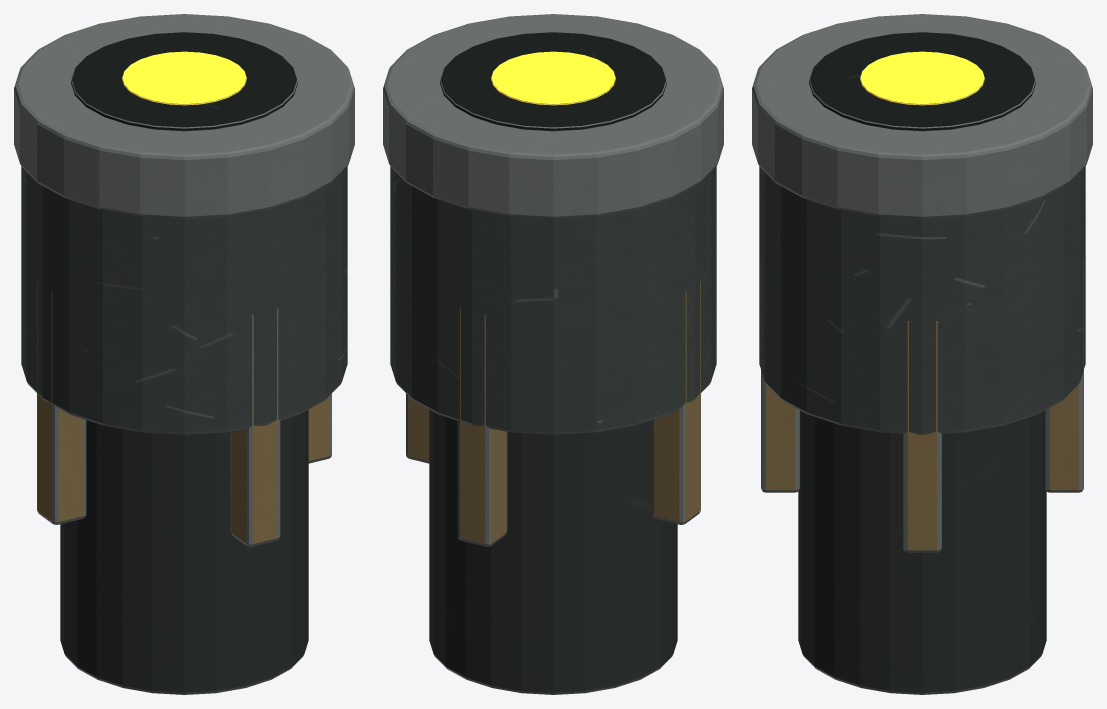
The model's file is arm_cannon-t2.glb.
3 renders of one model, left to right at view 1: azimuth 30°, elevation 25°; view 2: azimuth 150°, elevation 25°; view 3: azimuth 270°, elevation 25°, orthographic.
Visible parts, largest first — view 1: Emitter shell, Forearm recoil sleeve, Emitter collar, Deep emitter bore, Charge chamber rail.003, Charge chamber rail.002, Emitter recessed lens, Charge chamber rail; view 2: Emitter shell, Forearm recoil sleeve, Emitter collar, Deep emitter bore, Charge chamber rail.001, Charge chamber rail.002, Emitter recessed lens, Charge chamber rail; view 3: Emitter shell, Forearm recoil sleeve, Emitter collar, Deep emitter bore, Emitter recessed lens, Charge chamber rail, Charge chamber rail.001, Charge chamber rail.003.
Boxes of the visible parts, bbox=[...] form: Emitter shell: bbox=[21, 166, 347, 434]; Forearm recoil sleeve: bbox=[60, 409, 308, 694]; Emitter collar: bbox=[14, 14, 354, 218]; Deep emitter bore: bbox=[71, 32, 297, 131]; Charge chamber rail.003: bbox=[230, 308, 280, 546]; Charge chamber rail.002: bbox=[37, 281, 86, 524]; Emitter recessed lens: bbox=[122, 51, 246, 105]; Charge chamber rail: bbox=[308, 393, 331, 463]; Emitter shell: bbox=[390, 166, 716, 434]; Forearm recoil sleeve: bbox=[429, 409, 677, 694]; Emitter collar: bbox=[383, 14, 723, 218]; Deep emitter bore: bbox=[440, 32, 666, 131]; Charge chamber rail.001: bbox=[457, 308, 507, 546]; Charge chamber rail.002: bbox=[651, 281, 700, 524]; Emitter recessed lens: bbox=[491, 51, 615, 105]; Charge chamber rail: bbox=[406, 393, 429, 463]; Emitter shell: bbox=[759, 166, 1085, 434]; Forearm recoil sleeve: bbox=[798, 410, 1046, 694]; Emitter collar: bbox=[752, 14, 1092, 218]; Deep emitter bore: bbox=[809, 32, 1035, 131]; Emitter recessed lens: bbox=[860, 51, 984, 105]; Charge chamber rail: bbox=[903, 321, 941, 552]; Charge chamber rail.001: bbox=[1045, 259, 1083, 492]; Charge chamber rail.003: bbox=[761, 259, 799, 492].
Bounding box in the file's own units: 0.48 × 0.88 × 0.48.
6 materials, 5 textured.
